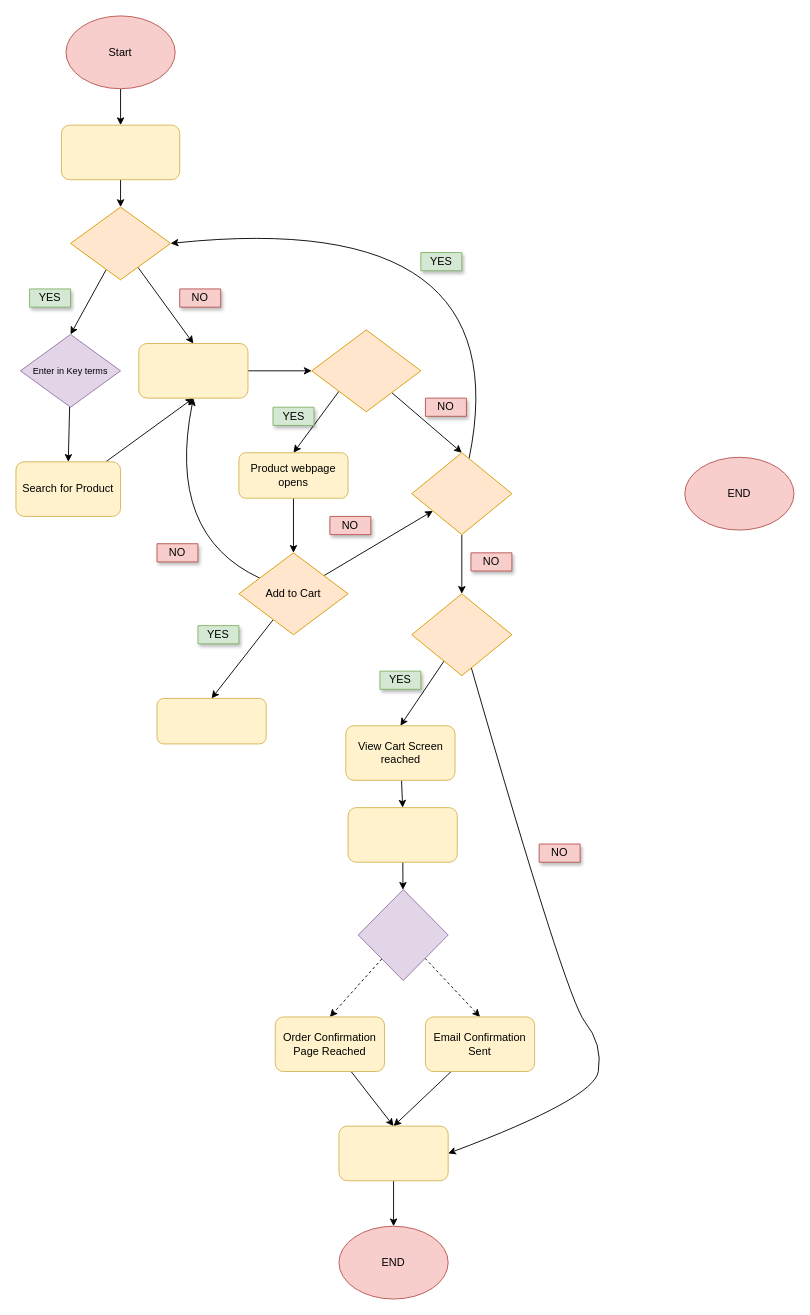
Image size: 810x1315. Some labels were removed from this diagram. Each missing label, with the centre of its shape:
"Add to Cart Confirmation Sent" goes at point 211,721.
"Browse for Products" goes at point 193,370.
"Checkout?" goes at point 461,634.
"Continue Shopping?" goes at point 461,493.
"Payment Info Given" goes at point 402,935.
"Search for product?" goes at point 120,243.
"User Enters Website" goes at point 120,152.
"User leaves website" goes at point 393,1153.
"View a specific product?" goes at point 366,370.
"View Payment Screen Reached" goes at point 402,834.
